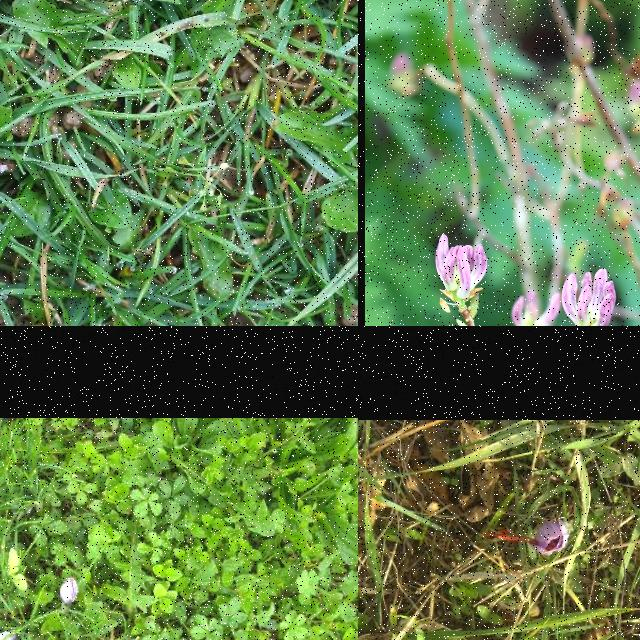flower: (484, 521, 570, 557), (60, 578, 78, 604), (0, 631, 18, 640)
